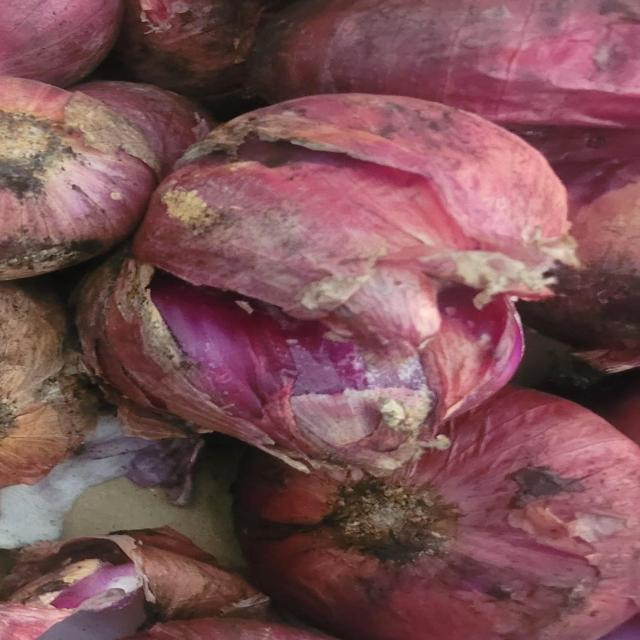Onion: (92, 92, 565, 502)
